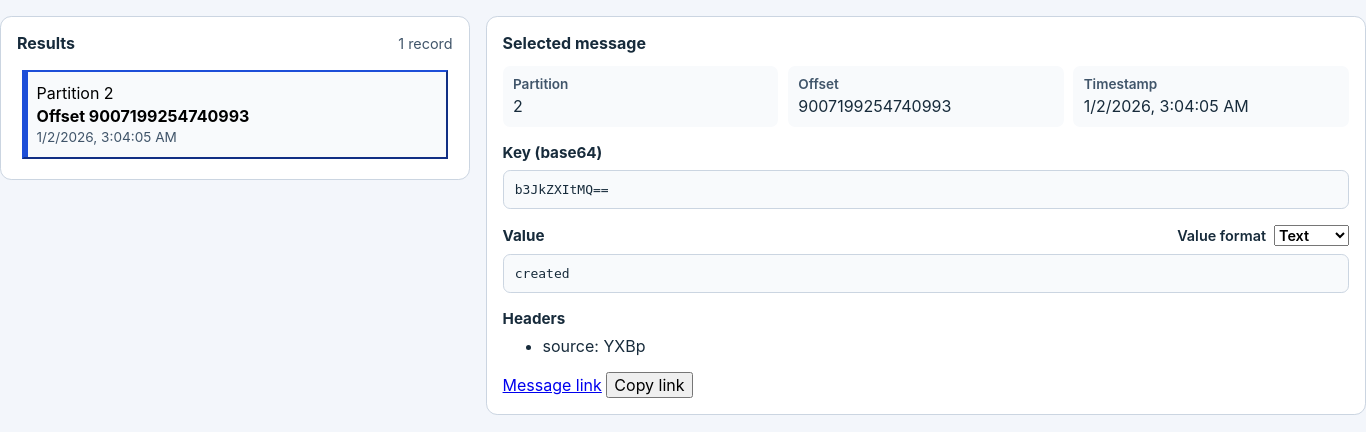
MessageWorkspace › copies a precise message link and reports clipboard success
Expected: the text "9007199254740993" is shown, [798, 96, 951, 116]
Click the button with aria-label "Copy link for partition 2 offset 9007199254740993".
click(649, 385)  # box [606, 372, 693, 398]
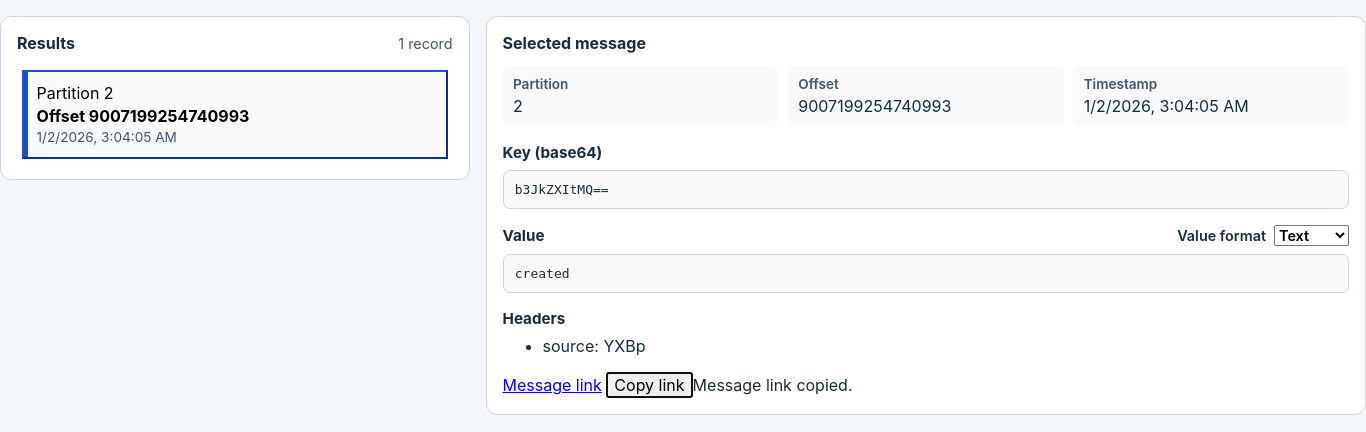
Now the message reads "Message link copied.", box [693, 375, 852, 395]
